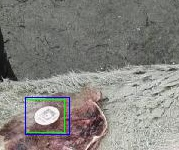text: (25, 99, 64, 132)
